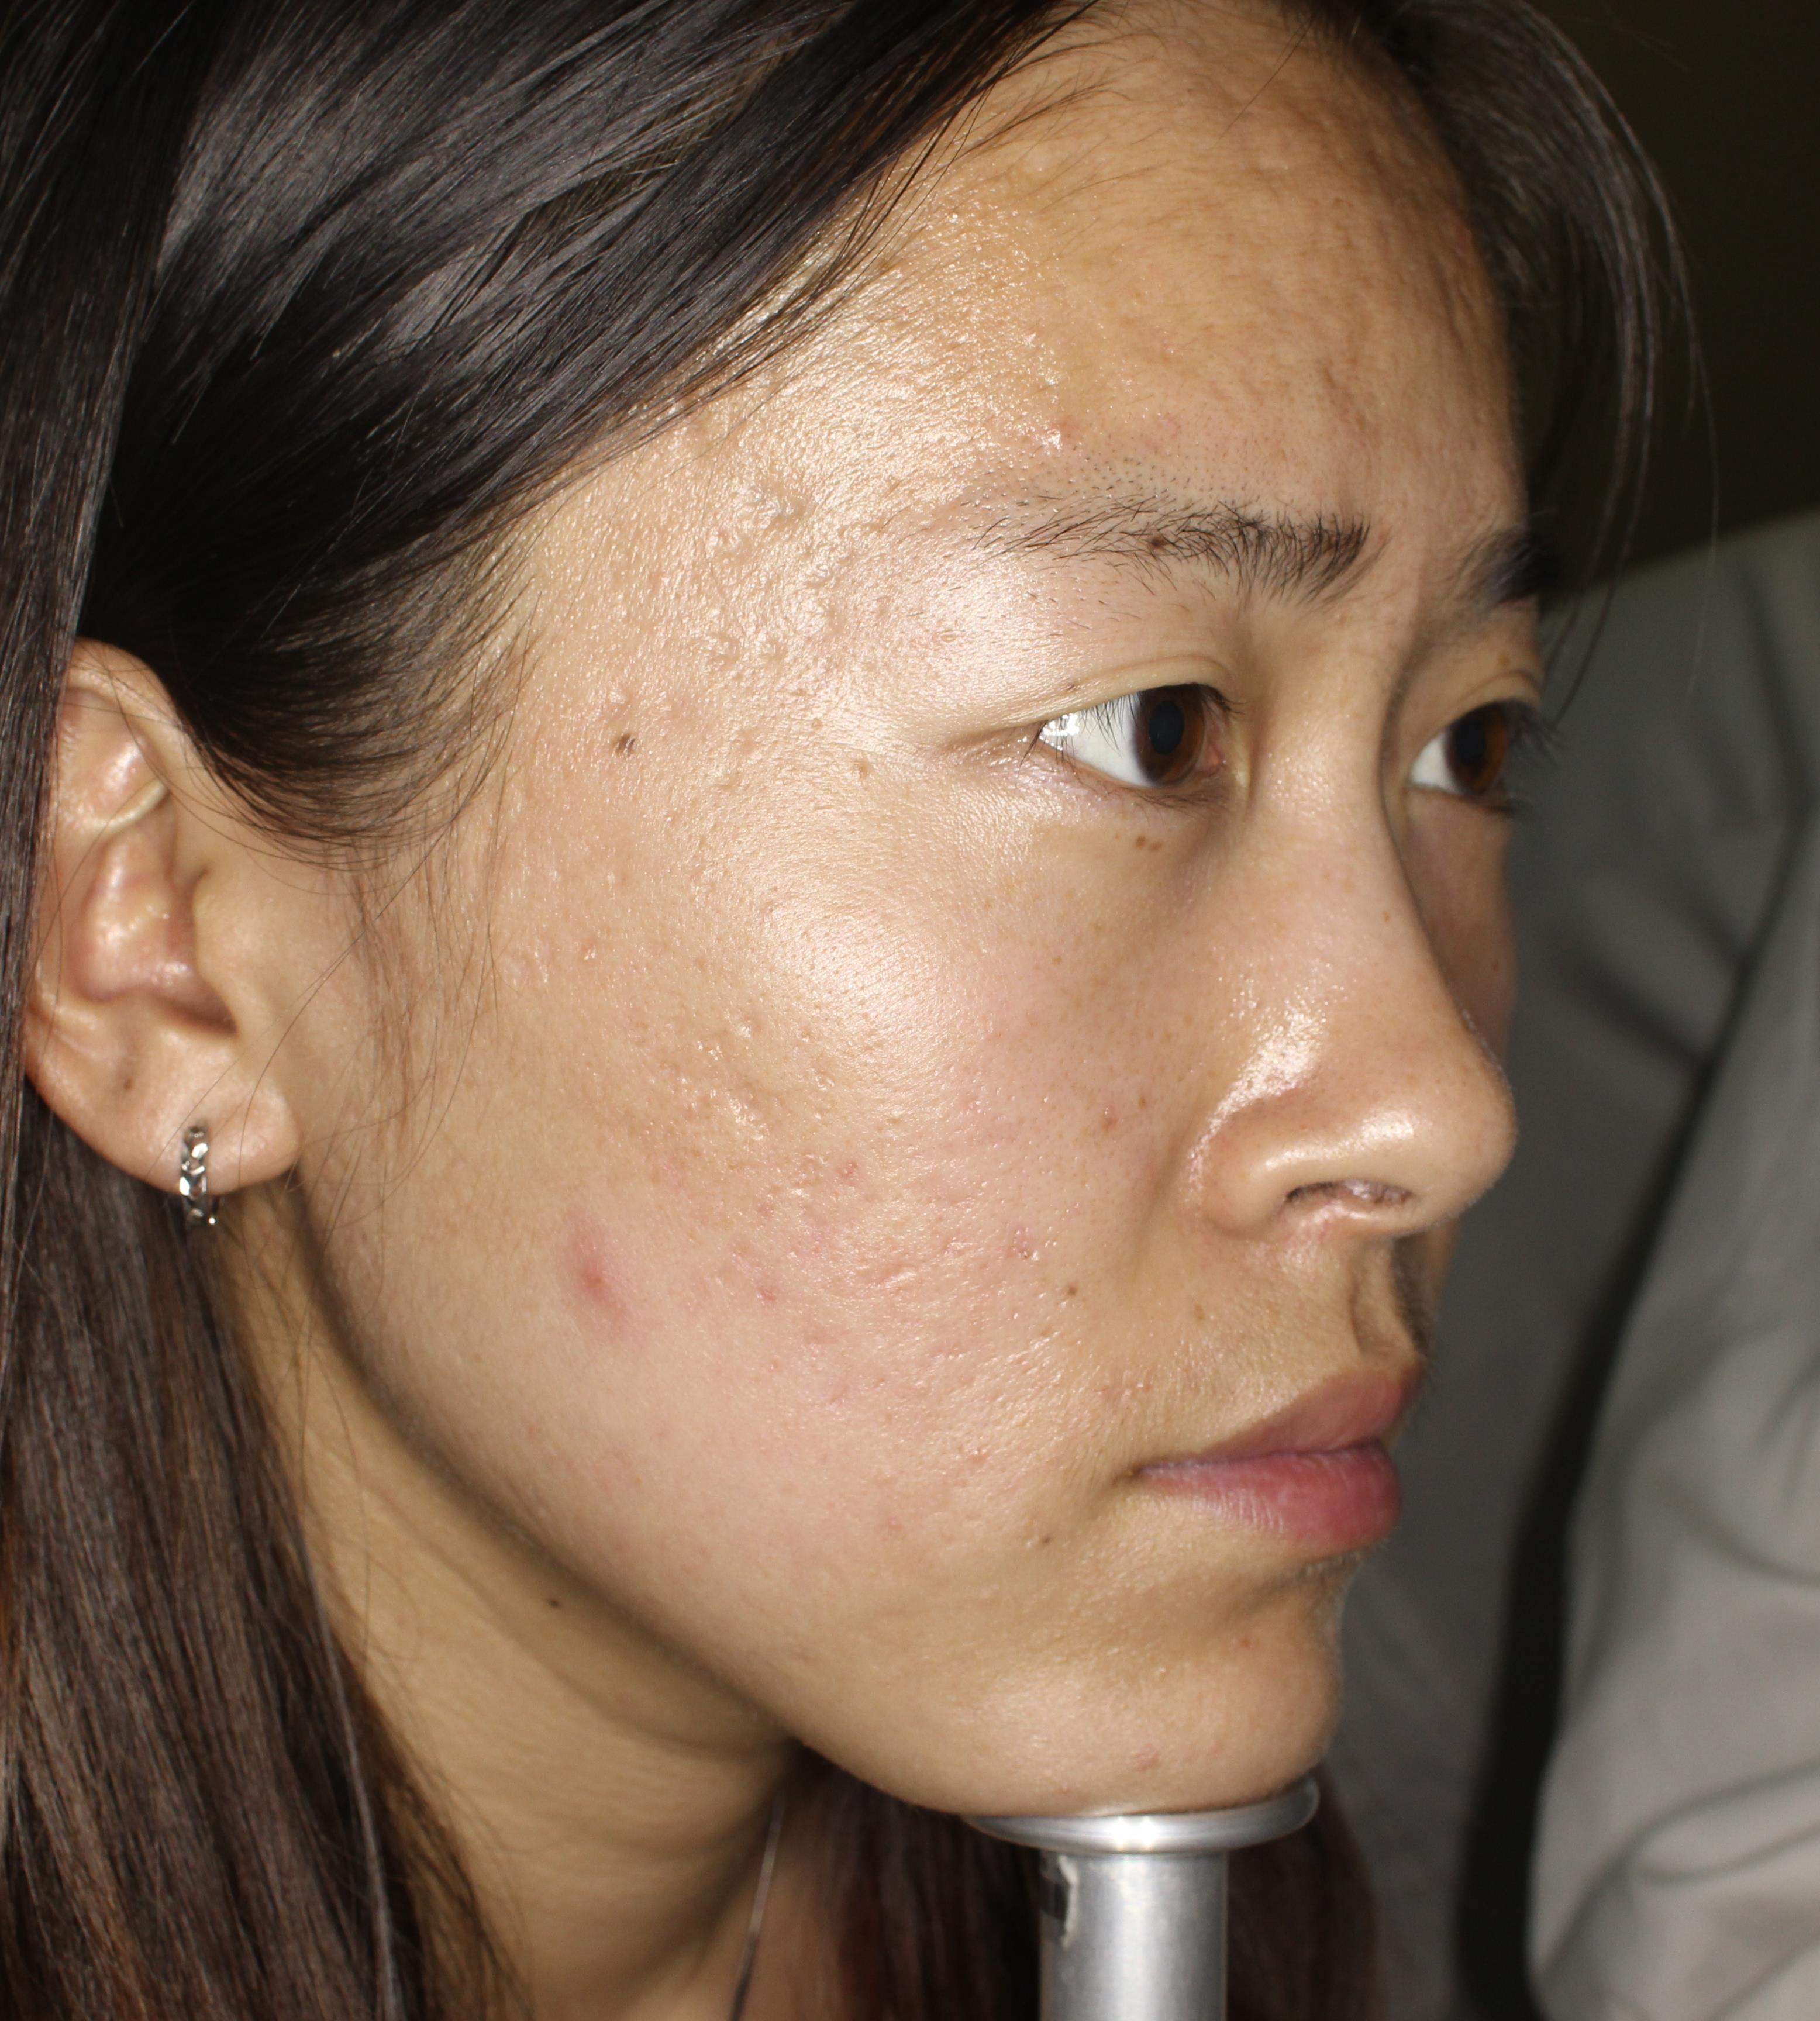fore: (562, 1222, 632, 1326)
